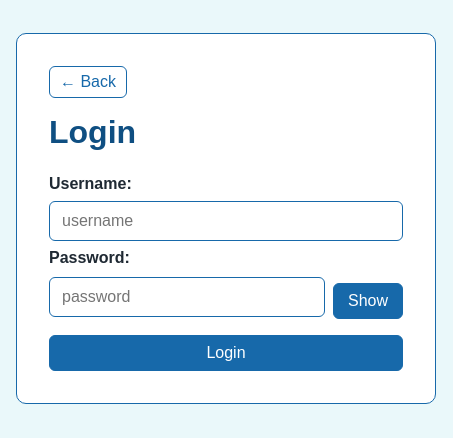
Test: login › successfully logs a user in
Type "teststudent" into the field labelled "Username:" at (226, 220), box [49,200,403,240]
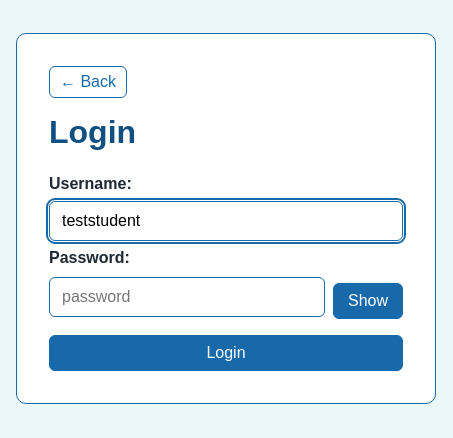
Type "password123" into the password field labelled "Password:" at (187, 296), box [49,276,325,316]
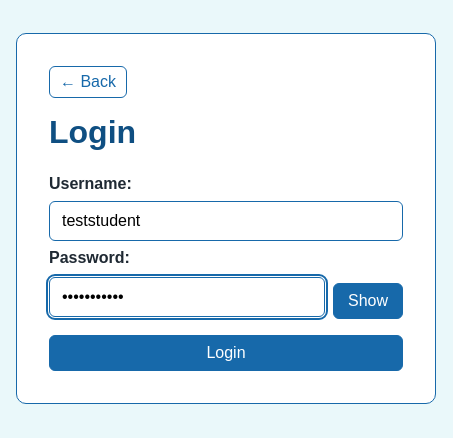
Click the button "Login" at (226, 352), box [49,334,403,370]
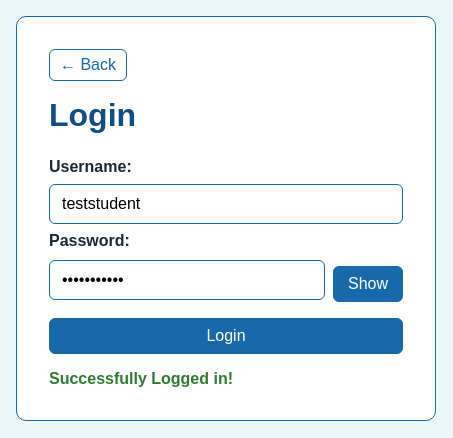
expect the text "Successfully Logged in!" is shown: met, box [49,370,233,386]
